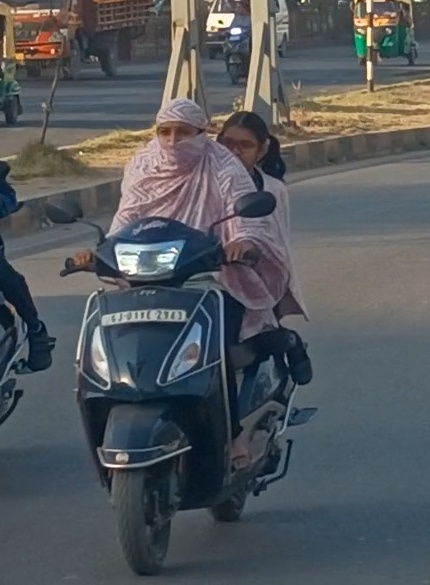BikeWithRider: (40, 94, 322, 576)
NoHelmet: (214, 109, 275, 179), (152, 96, 209, 166)
